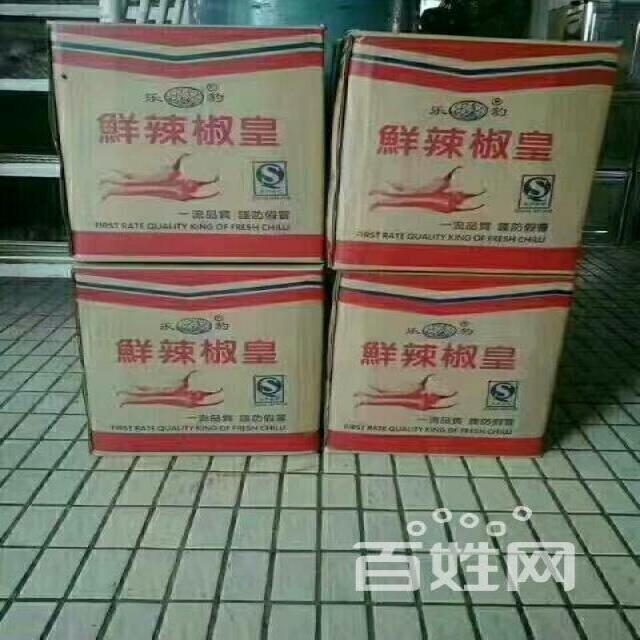box: (329, 22, 617, 276), (42, 14, 332, 266), (64, 256, 332, 456), (330, 258, 573, 458)
